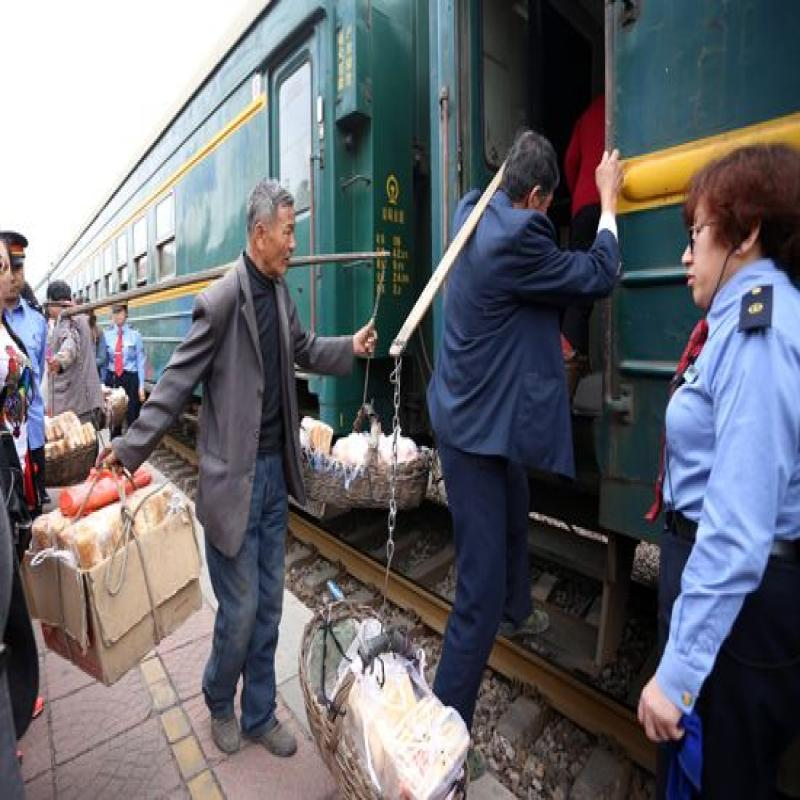train: (26, 84, 440, 398)
